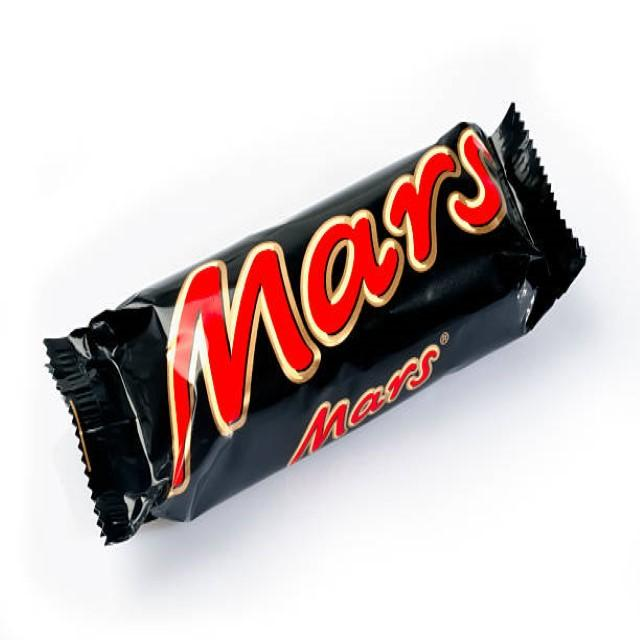mars_chocolate: (103, 86, 607, 502)
